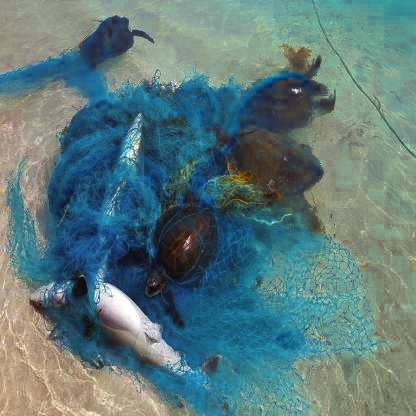net: (54, 84, 307, 368)
